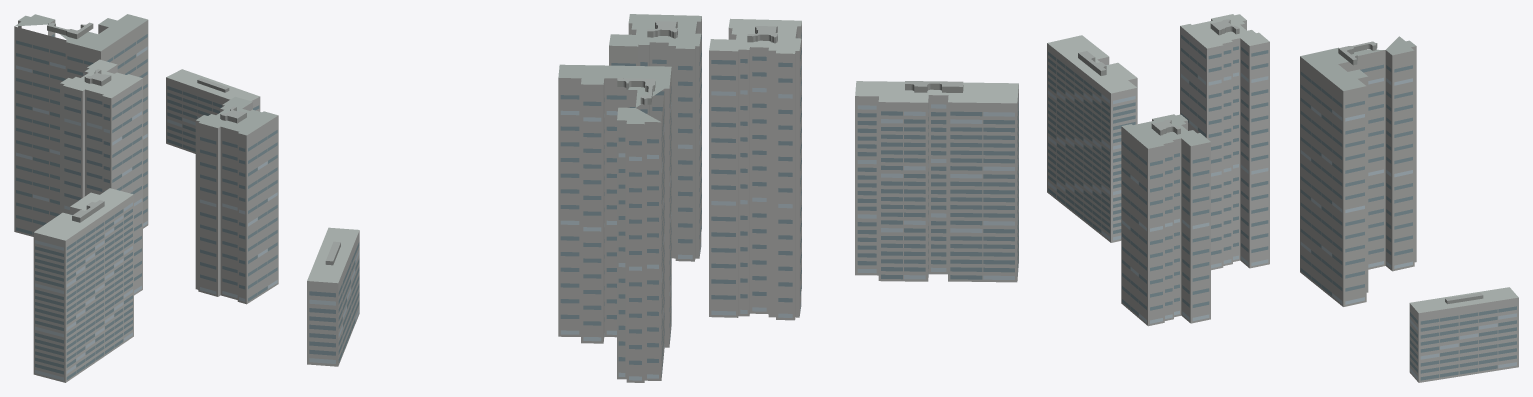
Rendered from apt-a13780006.glb.
3 views of the same model, side by side, from view 1: azimuth 30°, elevation 25°; view 2: azimuth 150°, elevation 25°; view 3: azimuth 270°, elevation 25° (orthographic). The views are drawn at different scales.
Visible parts, largest first — view 1: apt-a13780006; view 2: apt-a13780006; view 3: apt-a13780006.
Boxes of the visible parts, box(x1,y1,x2,y2) form: apt-a13780006: box(14, 14, 278, 382); apt-a13780006: box(307, 14, 1018, 382); apt-a13780006: box(1047, 14, 1518, 382).
Size of the model in its own units: 198 by 106 by 199.
